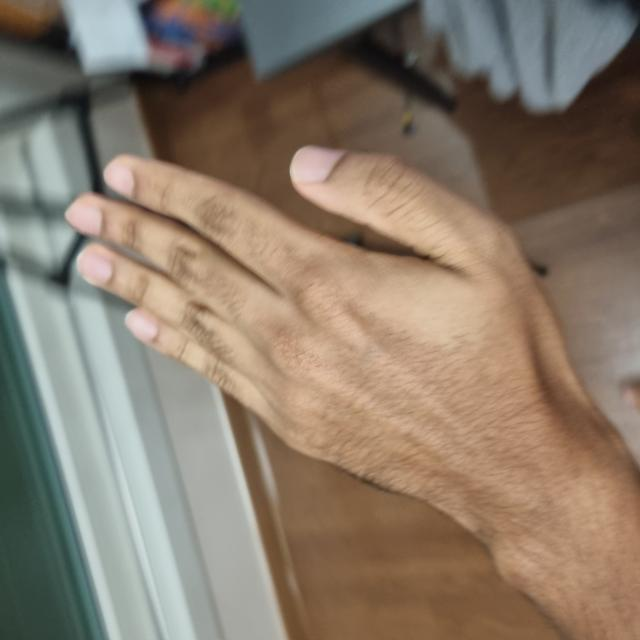Paper: (106, 68, 491, 592)
